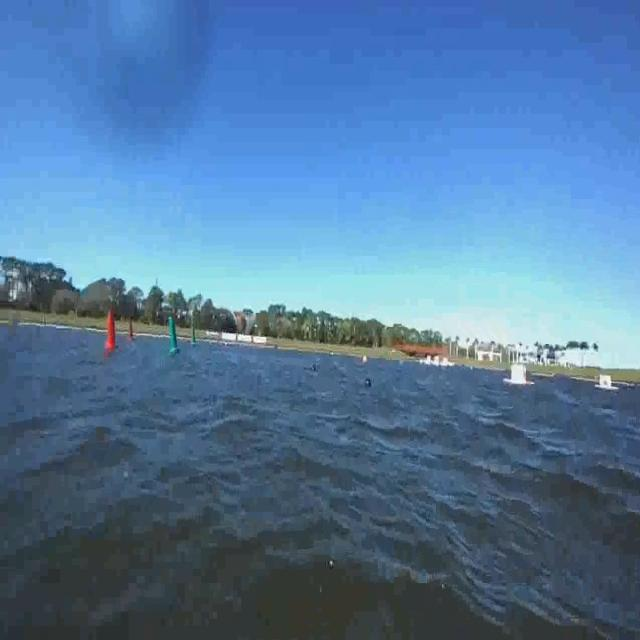black-buoy: (314, 366, 318, 374), (366, 380, 370, 388)
green-column-buoy: (168, 317, 181, 355), (192, 324, 197, 347)
red-column-buoy: (105, 309, 118, 351), (128, 318, 134, 340)
